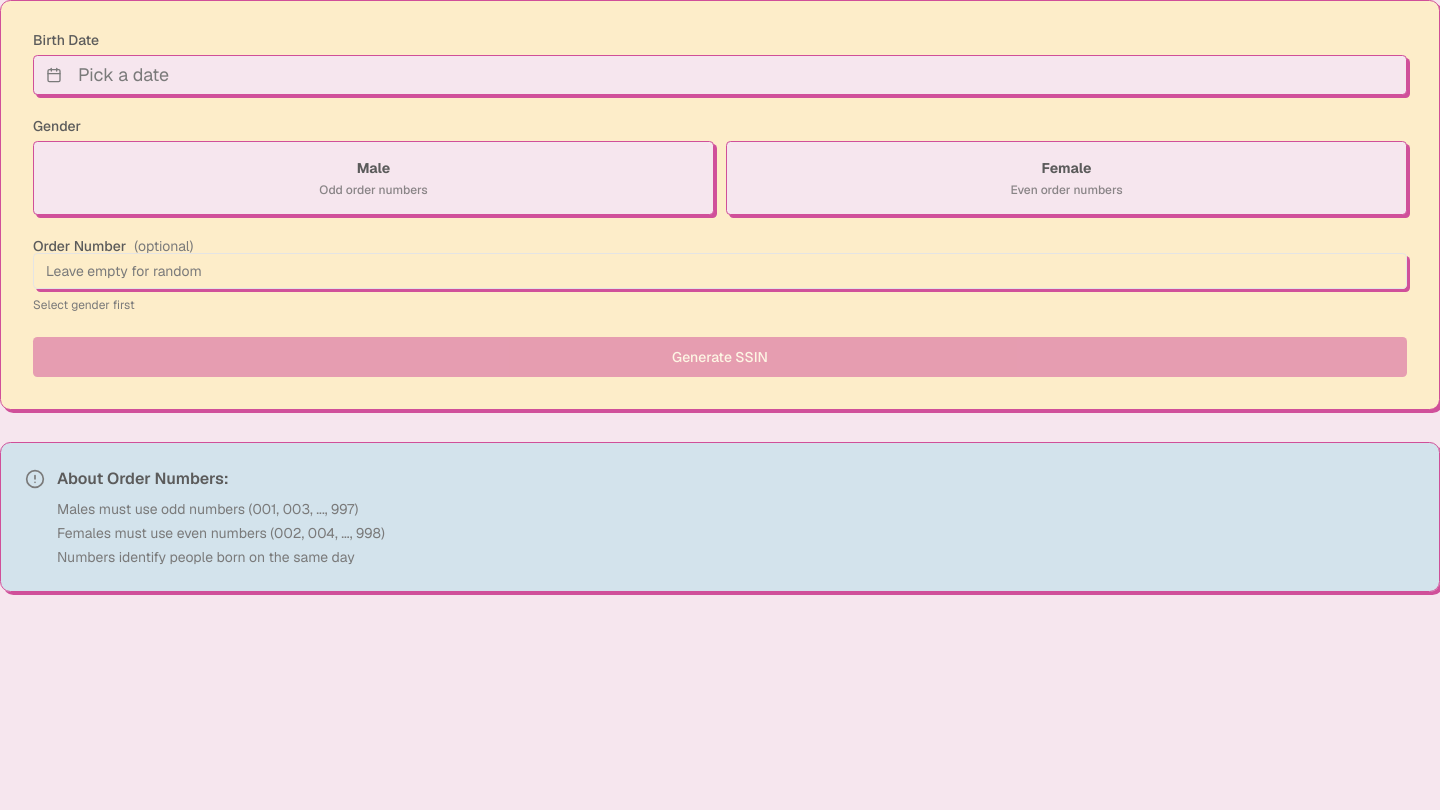
Scenario: SSINGeneratorForm › Order Number Input › should reject non-numeric characters
In the field labelled "Order Number (optional)": (720, 271) [33, 253, 1407, 289], type "a1b2c3"
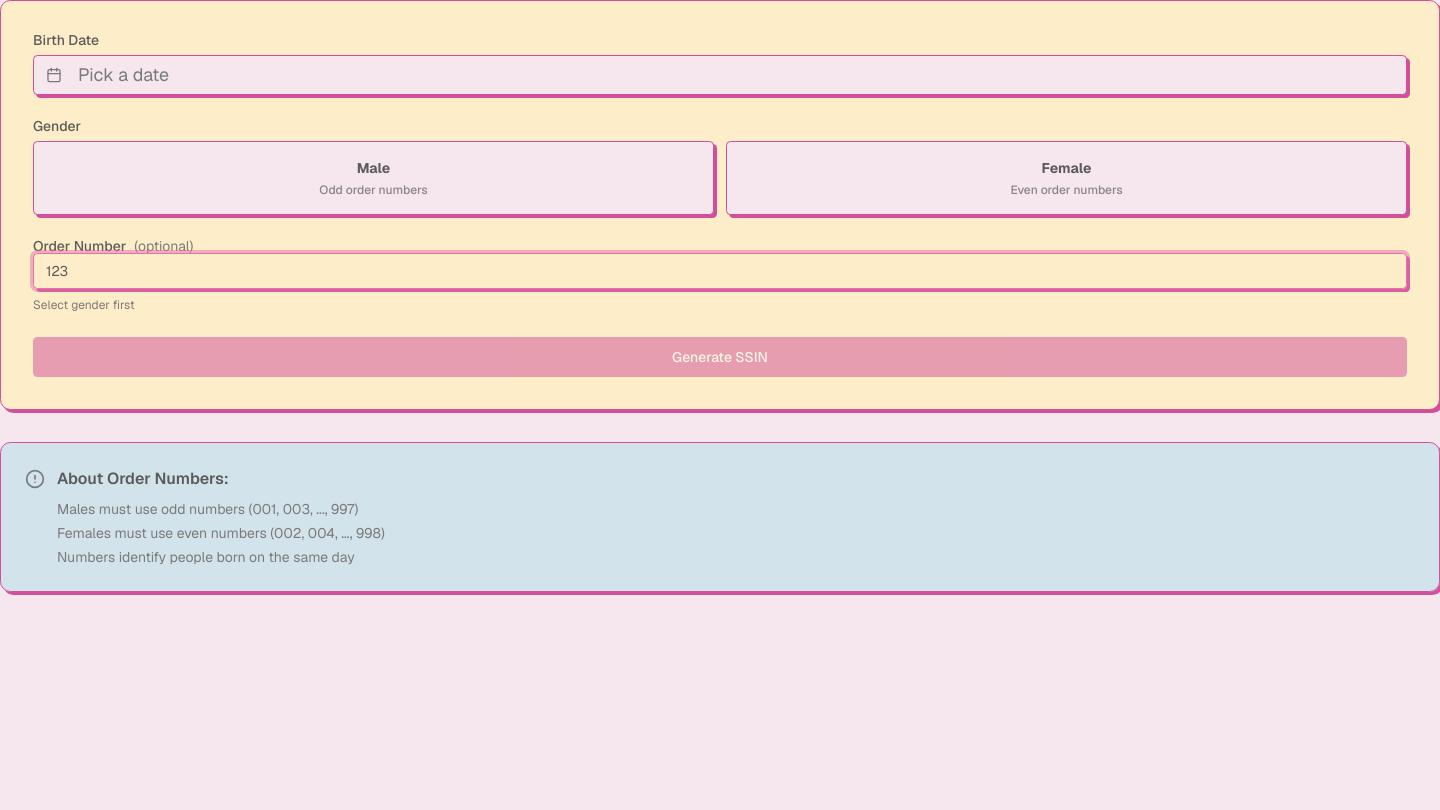
Now the field labelled "Order Number (optional)" holds "123", box [33, 253, 1407, 289]
